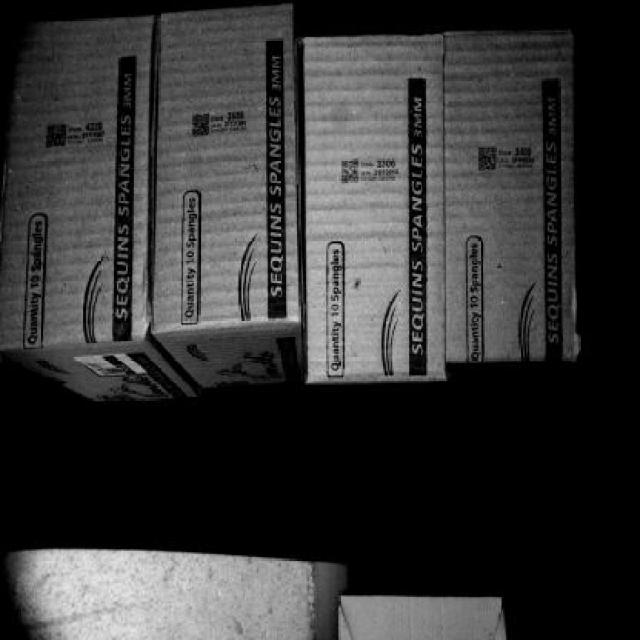cardboxes: (9, 9, 153, 349), (156, 6, 301, 337), (307, 34, 445, 377), (448, 26, 582, 357)
